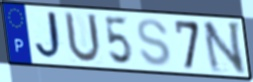5: (102, 14, 134, 66)
7: (173, 18, 202, 71)
J: (34, 10, 67, 62)
N: (201, 21, 247, 75)
S: (136, 17, 173, 68)
U: (63, 10, 103, 65)
